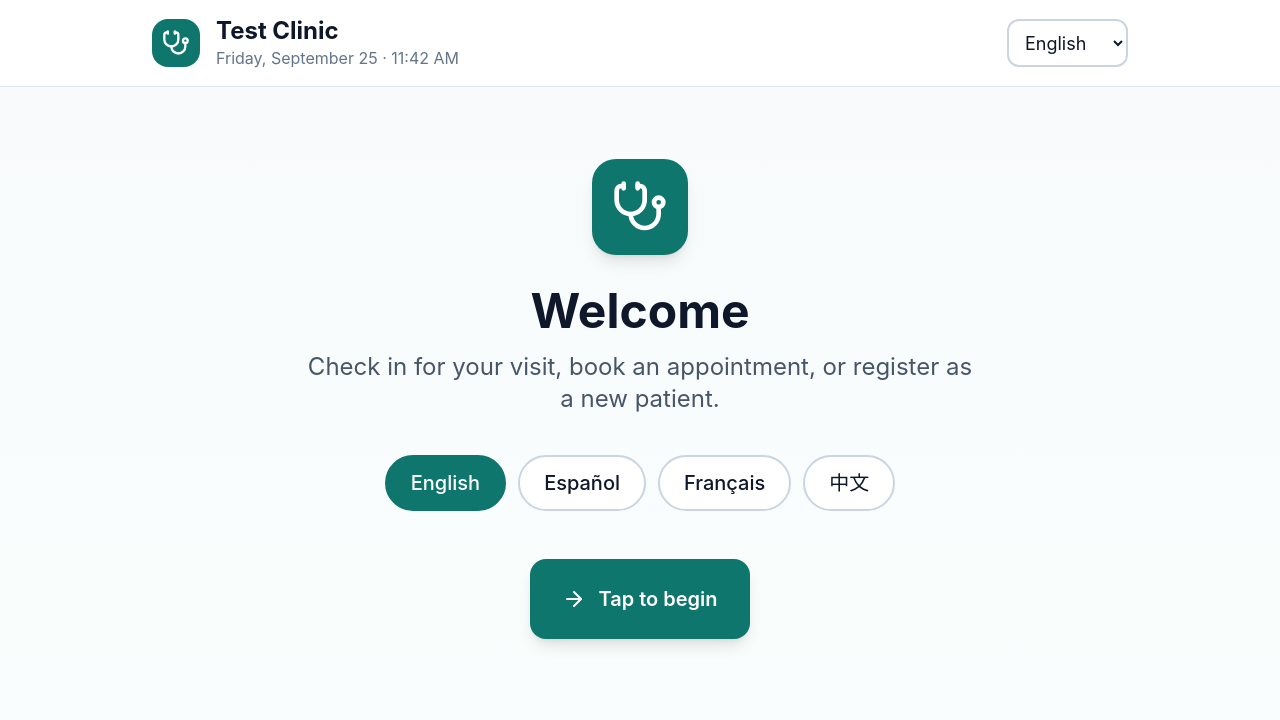
Test case: face check-in is disabled until face recognition is ready
What coordinates should you click on to do the following:
click the button "Tap to begin"
I would click on:
 (640, 599)
Its box is 530,559 -> 750,639.
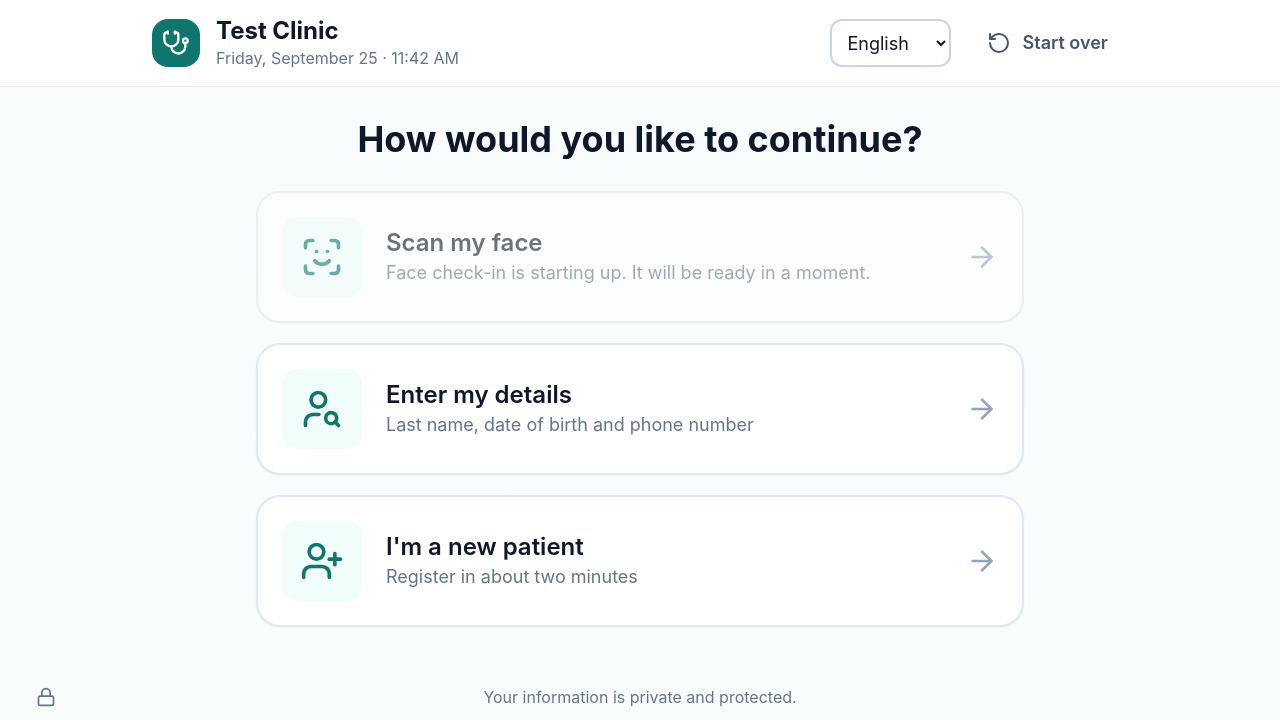
Result: the text "Face check-in is starting up. It will be ready in a moment." is shown at 386,259 -> 942,287
Result: the button "Scan my face" is disabled at 256,191 -> 1024,323
Result: the button "Enter my details" is enabled at 256,343 -> 1024,475
